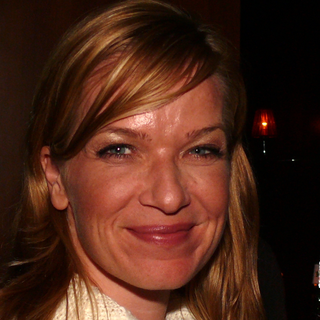eye: (95, 138, 140, 162), (179, 142, 224, 162)
